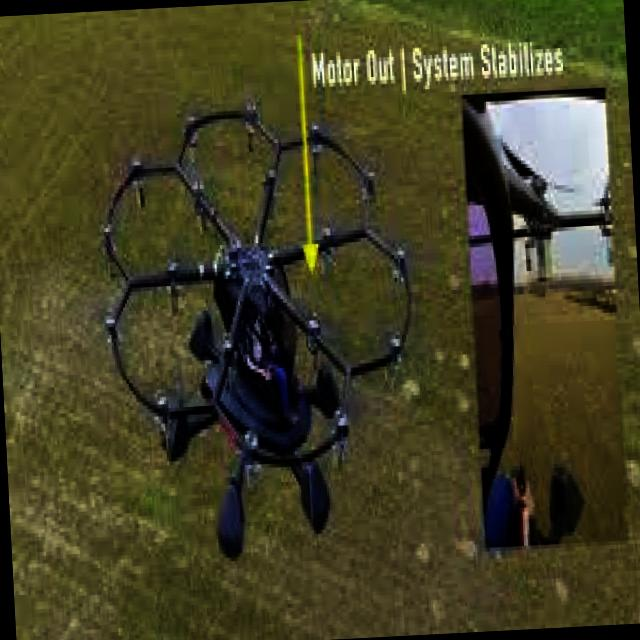drone: (78, 69, 432, 585)
